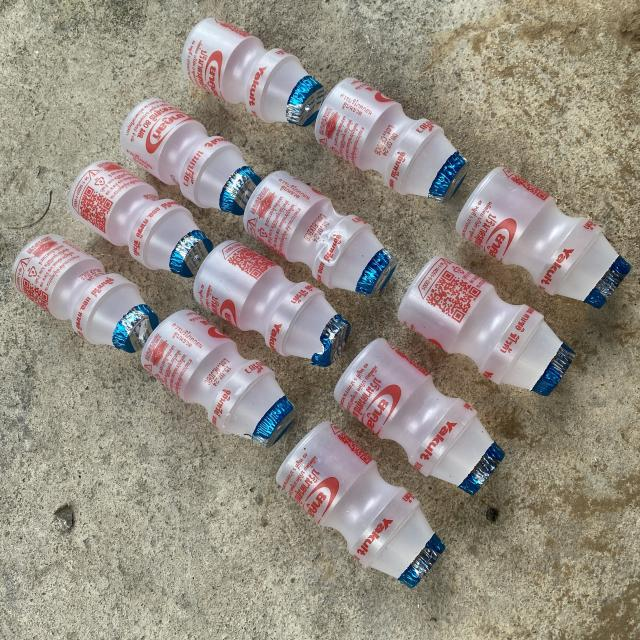Single-Use-Plastic: (276, 421, 442, 584), (334, 339, 504, 494), (398, 256, 575, 395), (456, 168, 630, 308), (141, 310, 296, 446), (194, 241, 350, 366), (315, 78, 469, 201), (244, 171, 396, 295), (12, 235, 159, 352), (69, 161, 212, 278), (120, 99, 260, 215), (181, 18, 324, 126)
